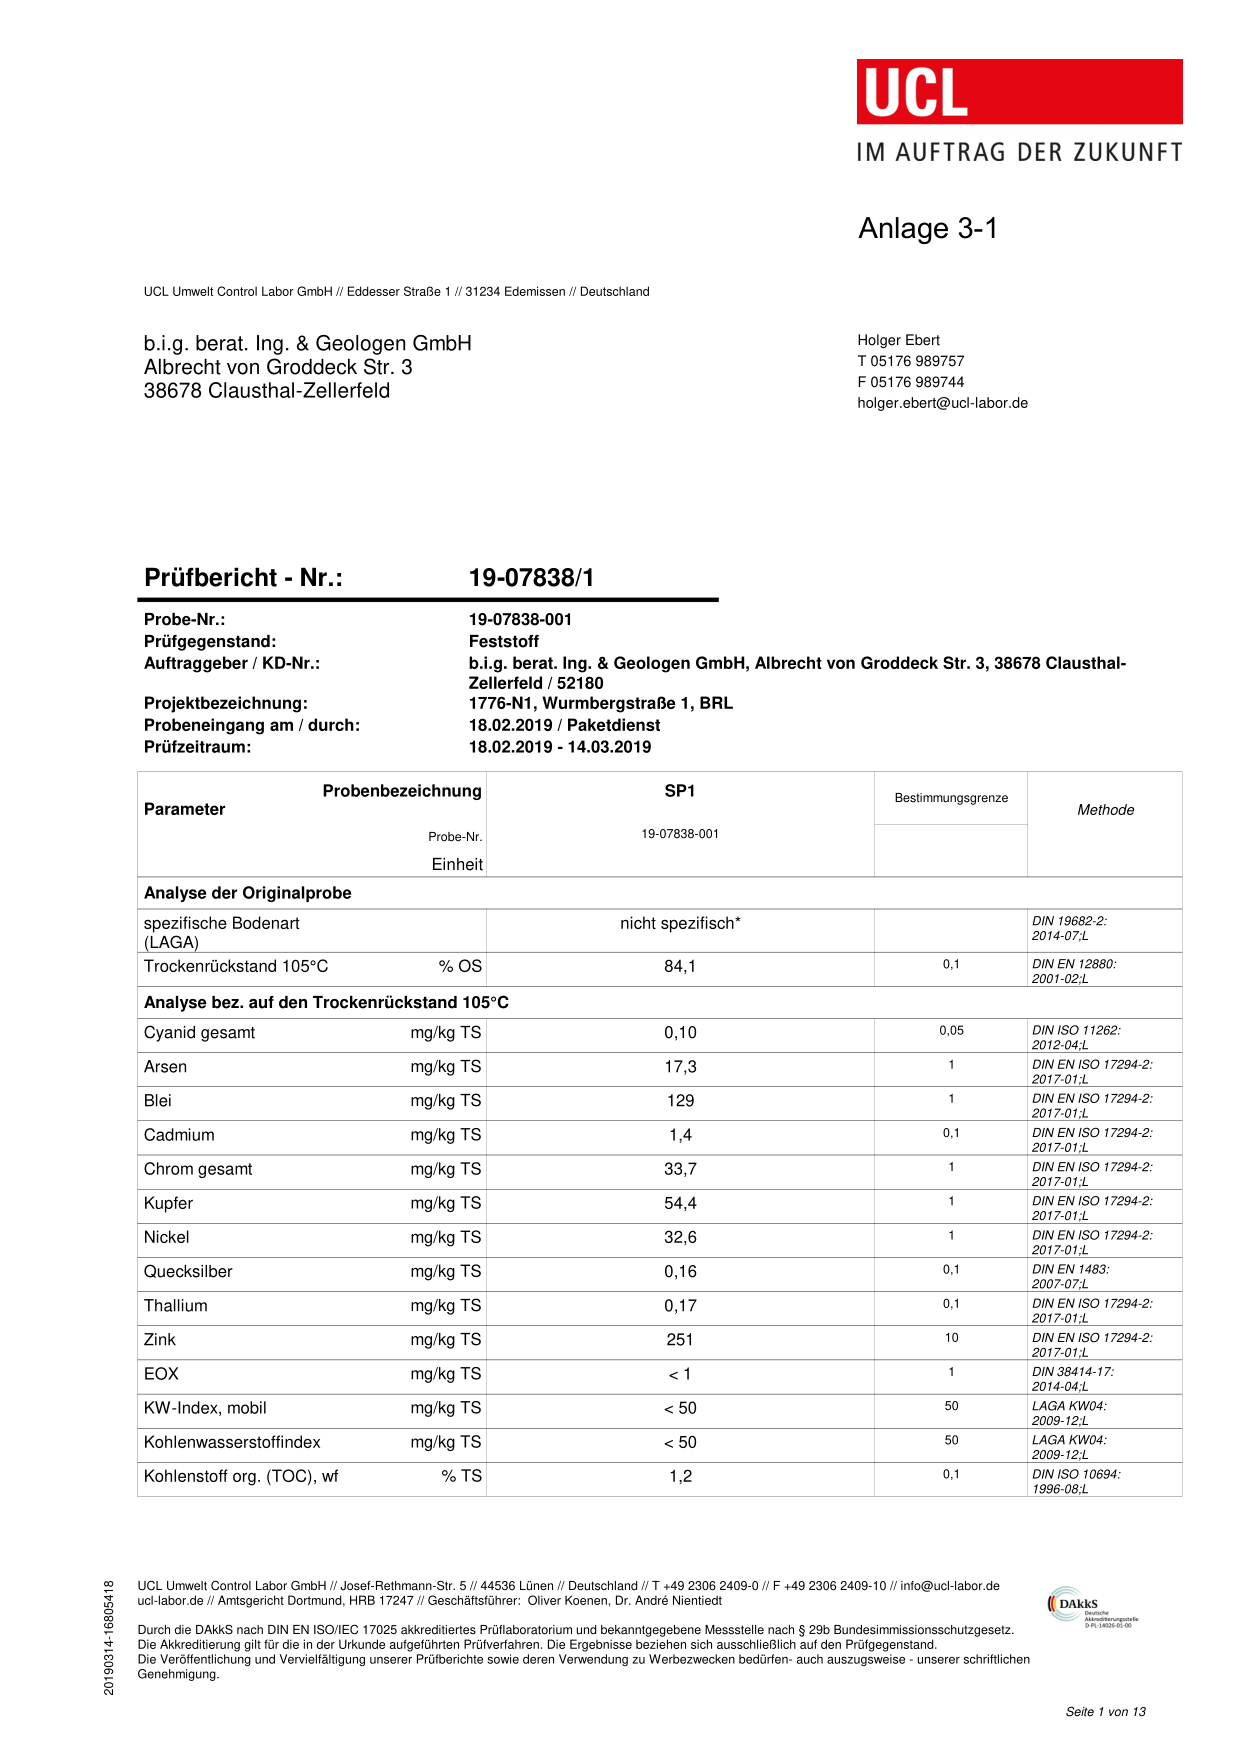table: (130, 904, 1180, 1512)
